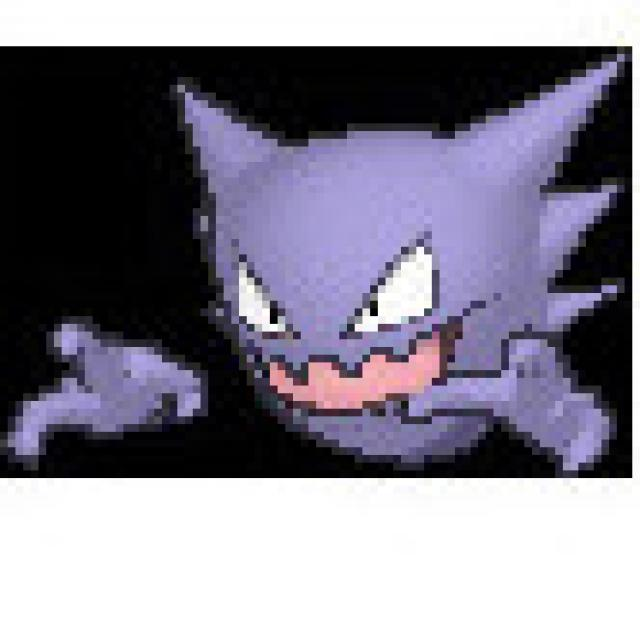Haunter: (123, 72, 608, 465)
